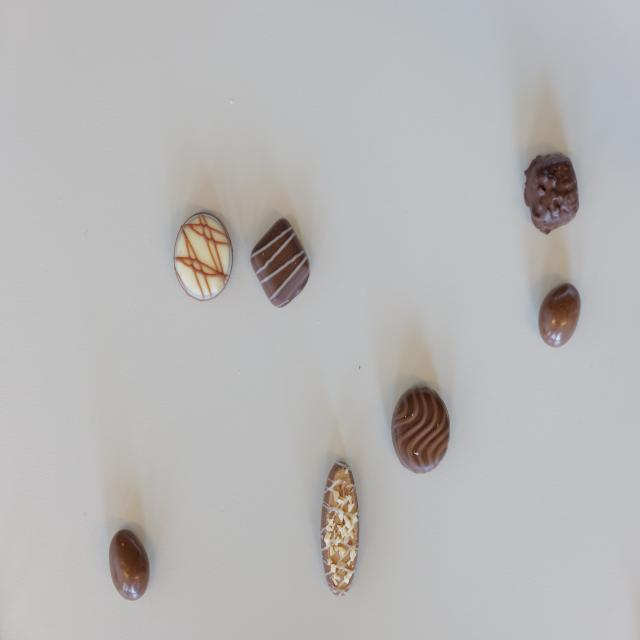Amandina: (321, 460, 359, 597)
Creme_brulee: (170, 210, 234, 302)
Jelly_Milk: (107, 528, 150, 600), (538, 283, 581, 347)
Noir_authentique: (392, 386, 451, 473)
Stracciatella: (251, 216, 310, 310)
Tentation_noir: (525, 153, 580, 235)
